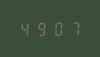four: (18, 20, 33, 37)
nine: (34, 20, 49, 37)
seven: (66, 19, 81, 36)
zero: (50, 19, 65, 36)
